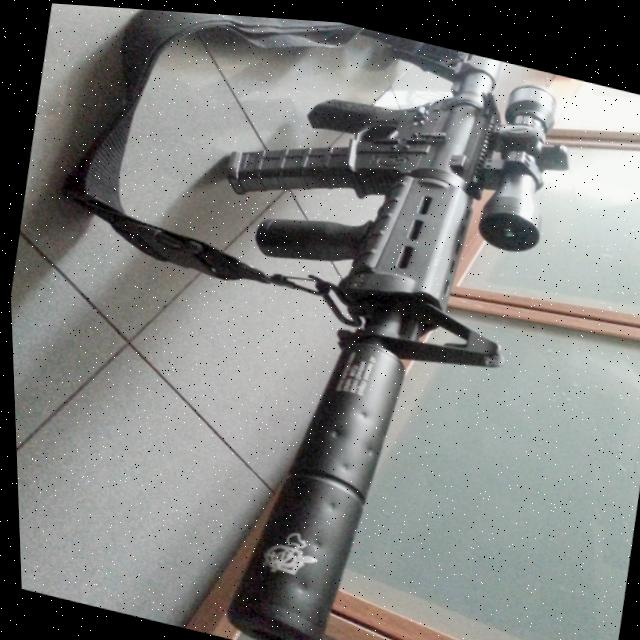firearm: (140, 7, 599, 640)
